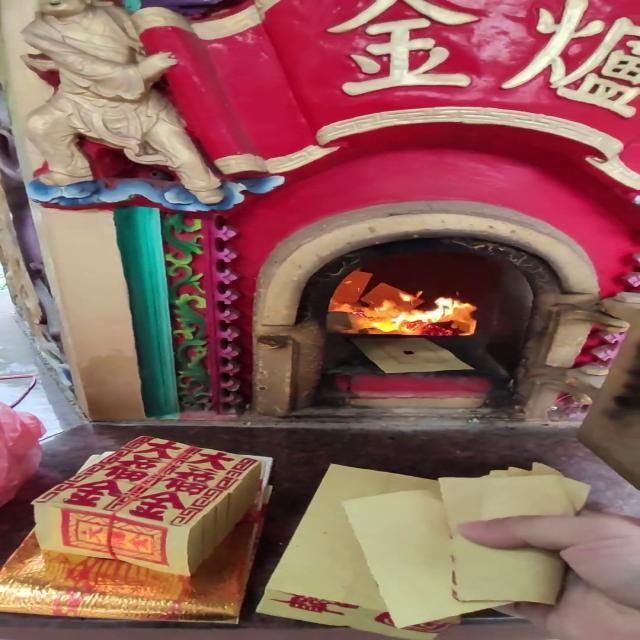Fire: (358, 292, 476, 337)
